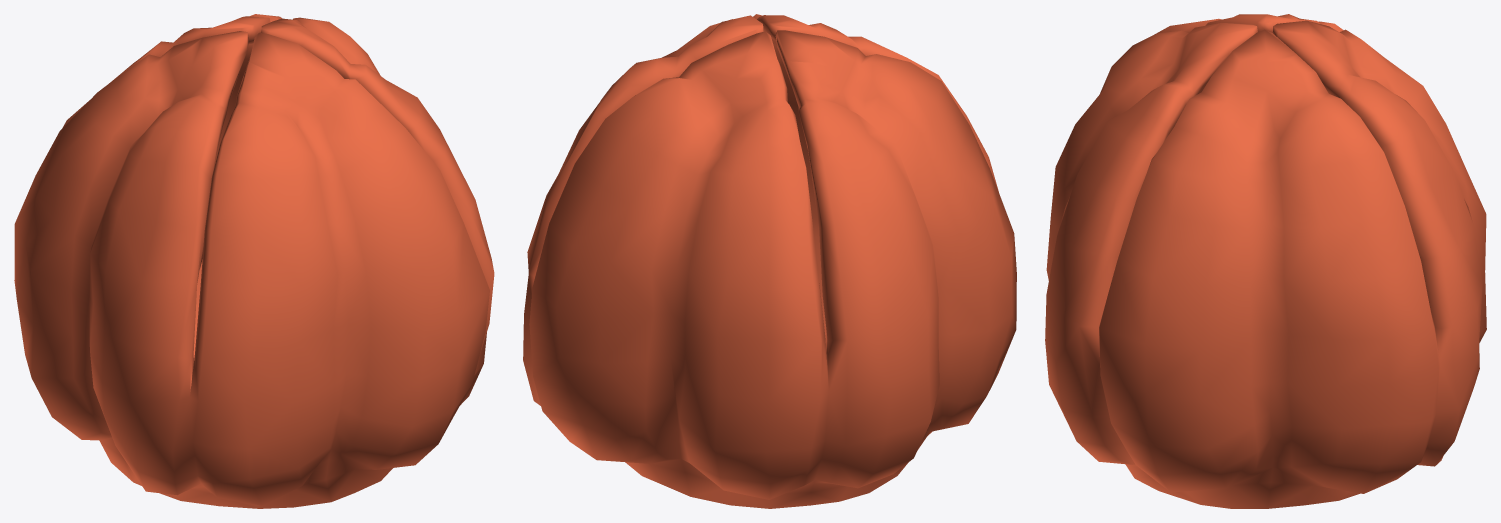
File: EggBrain PORT1.fbx
3 views of the same model, side by side, from view 1: azimuth 30°, elevation 25°; view 2: azimuth 150°, elevation 25°; view 3: azimuth 270°, elevation 25° (orthographic).
Parts seen in each view (by area): view 1: ÆG LovPply; view 2: ÆG LovPply; view 3: ÆG LovPply.
Part boxes in pixels (x1=…): ÆG LovPply: x1=14, y1=14, x2=494, y2=508; ÆG LovPply: x1=523, y1=14, x2=1016, y2=508; ÆG LovPply: x1=1045, y1=14, x2=1486, y2=508.
Size of the model in its own units: 626 by 673 by 620.
